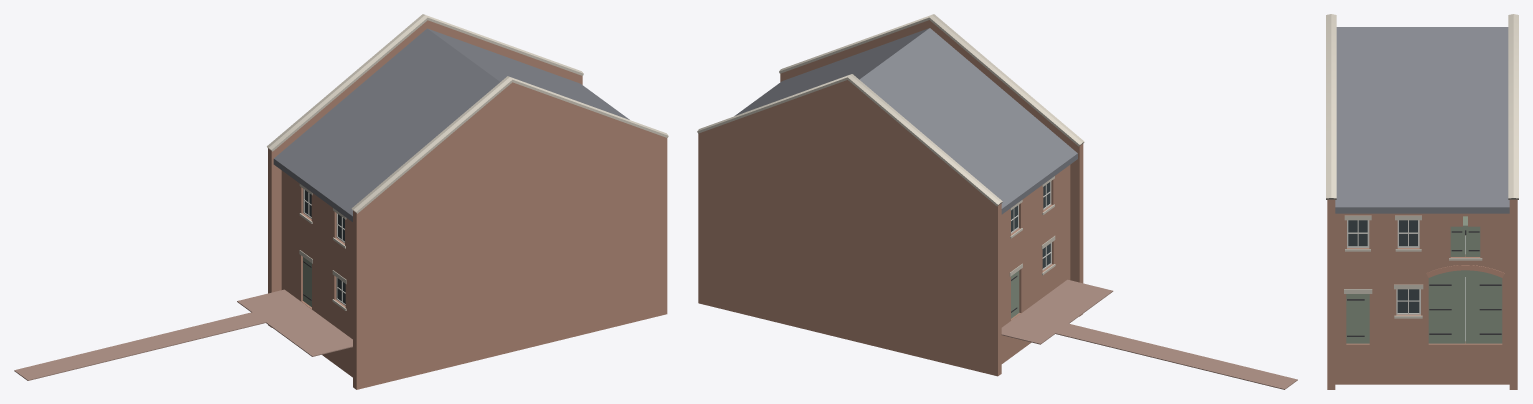
The model's file is otis_house_2033_prairie_coach_house__as_standing_1904.glb.
The picture shows the model from 3 angles, left to right: view 1: azimuth 30°, elevation 25°; view 2: azimuth 150°, elevation 25°; view 3: azimuth 270°, elevation 25°; orthographic projection. The views are drawn at different scales.
Visible parts, largest first — view 1: otis_house_2033_prairie_coach_house__as_standing_1904; view 2: otis_house_2033_prairie_coach_house__as_standing_1904; view 3: otis_house_2033_prairie_coach_house__as_standing_1904.
Part boxes in pixels (left/top/right/bottom): otis_house_2033_prairie_coach_house__as_standing_1904: left=14, top=14, right=668, bottom=389; otis_house_2033_prairie_coach_house__as_standing_1904: left=697, top=14, right=1297, bottom=389; otis_house_2033_prairie_coach_house__as_standing_1904: left=1326, top=14, right=1518, bottom=389.
Bounding box in the file's own units: 30.04 × 13.22 × 7.86.
